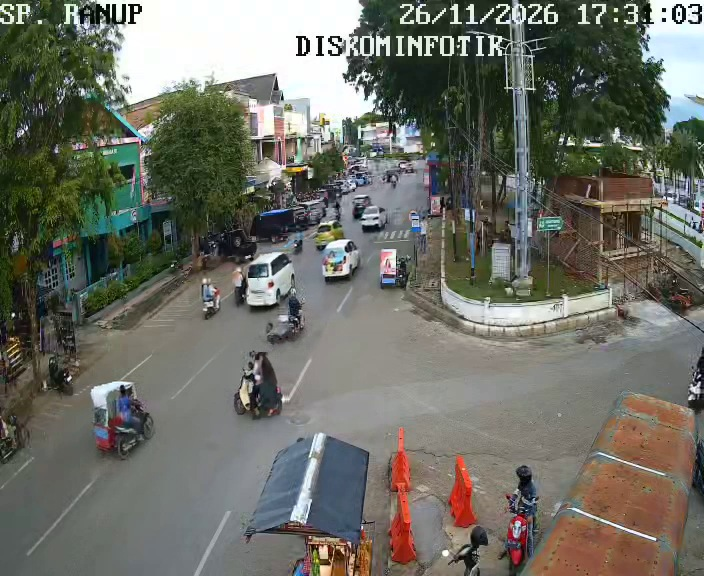Gerobak: (243, 432, 372, 576), (287, 529, 360, 576)
